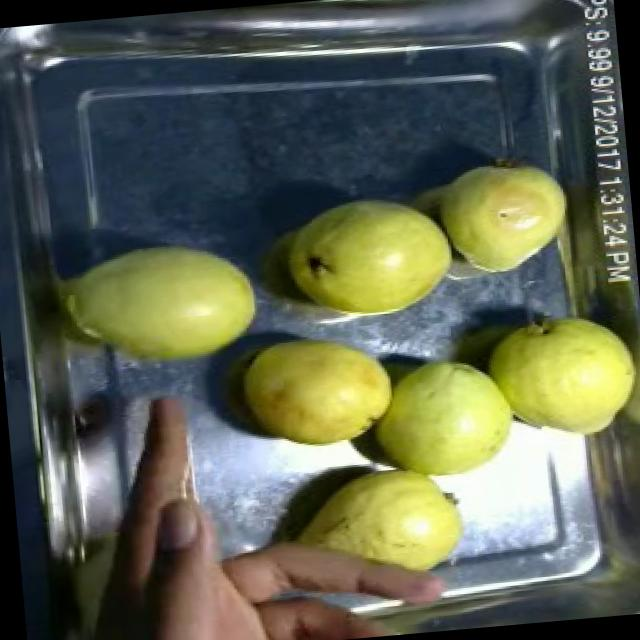Fruit: (195, 438, 493, 640), (56, 227, 274, 386), (338, 349, 534, 508), (269, 180, 466, 336), (225, 321, 412, 470), (462, 306, 640, 461), (428, 146, 582, 288)
